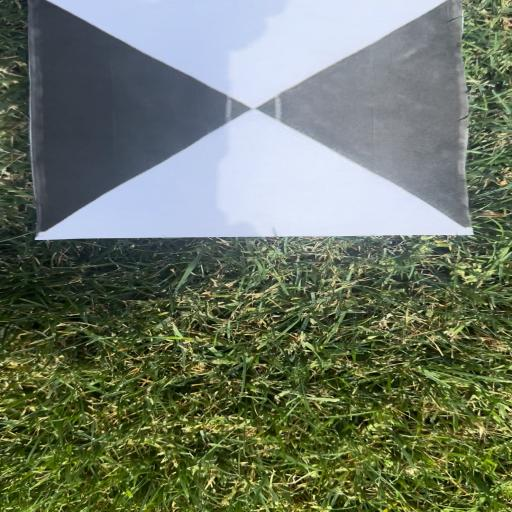target: (42, 0, 464, 240)
